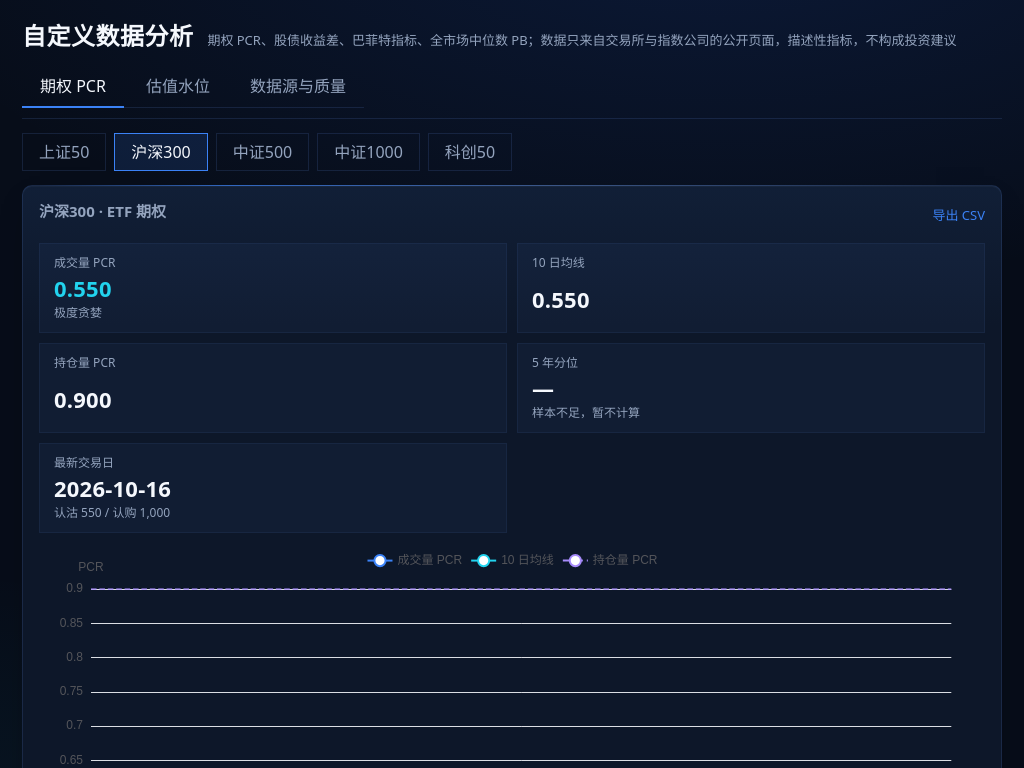
自定义数据分析页 › 切换宽基会请求对应分组，已看过的分组不重复请求
Expected: the heading "沪深300 · ETF 期权" is shown, [39,200,166,222]
Click the tab "上证50" at (64, 152), box [22,133,106,171]
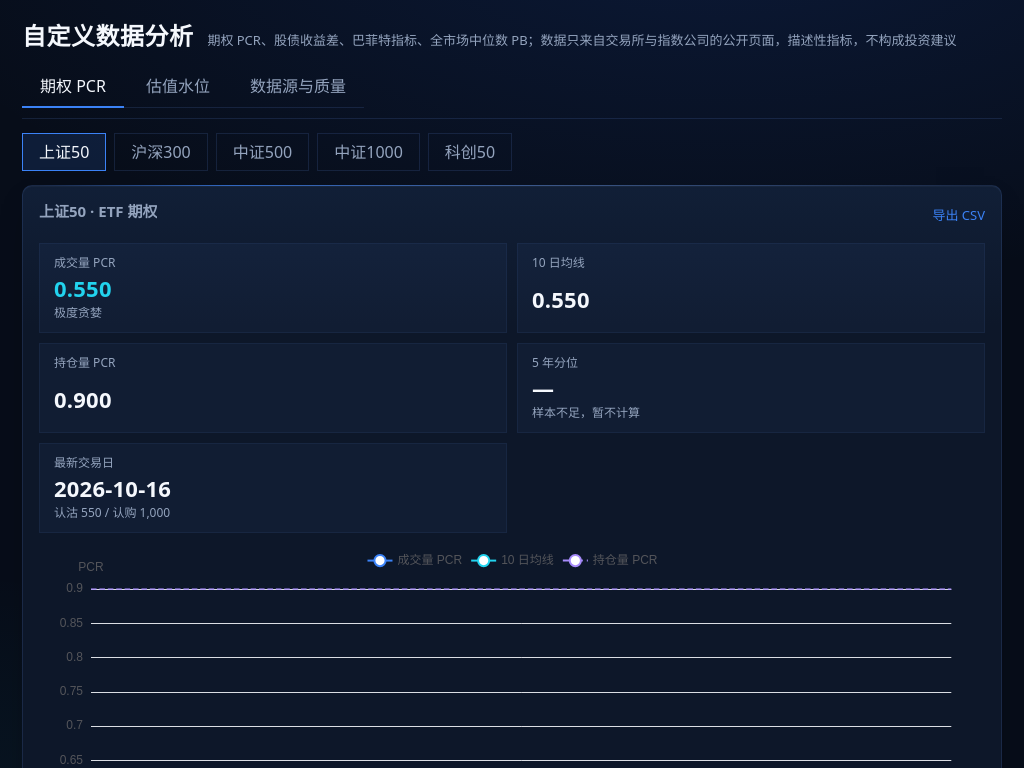
Result: the heading "上证50 · ETF 期权" is shown at [39,200,158,222]
Click the tab "沪深300" at (161, 152), box [114,133,208,171]
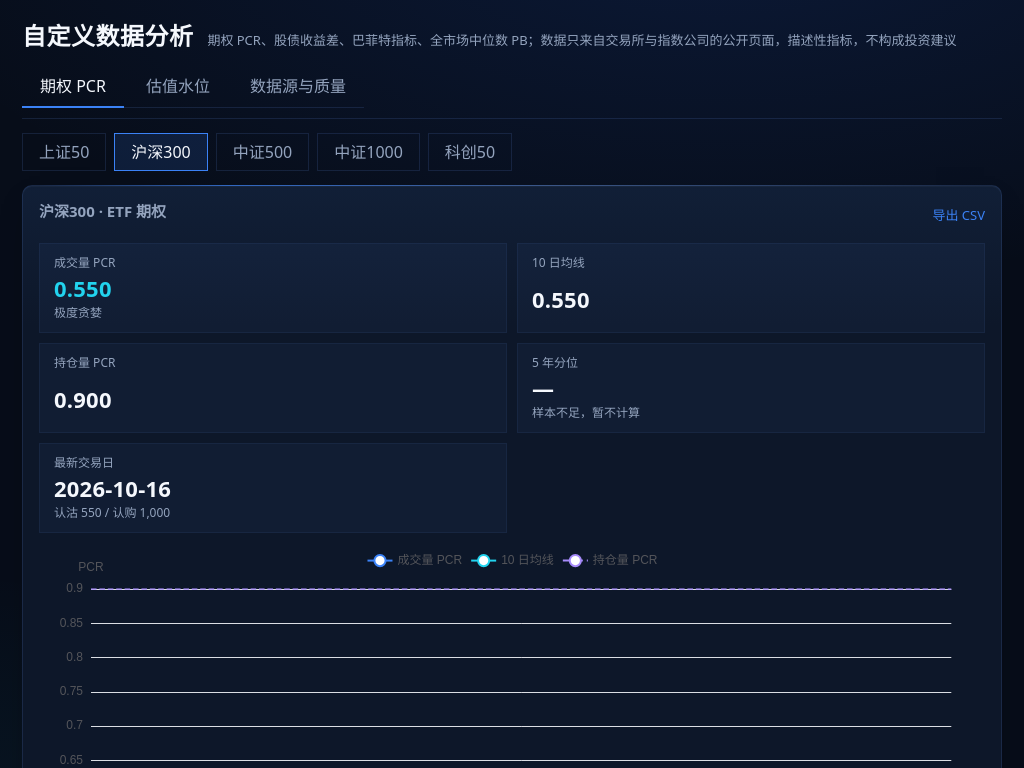
Result: the heading "沪深300 · ETF 期权" is shown at [39,200,166,222]
